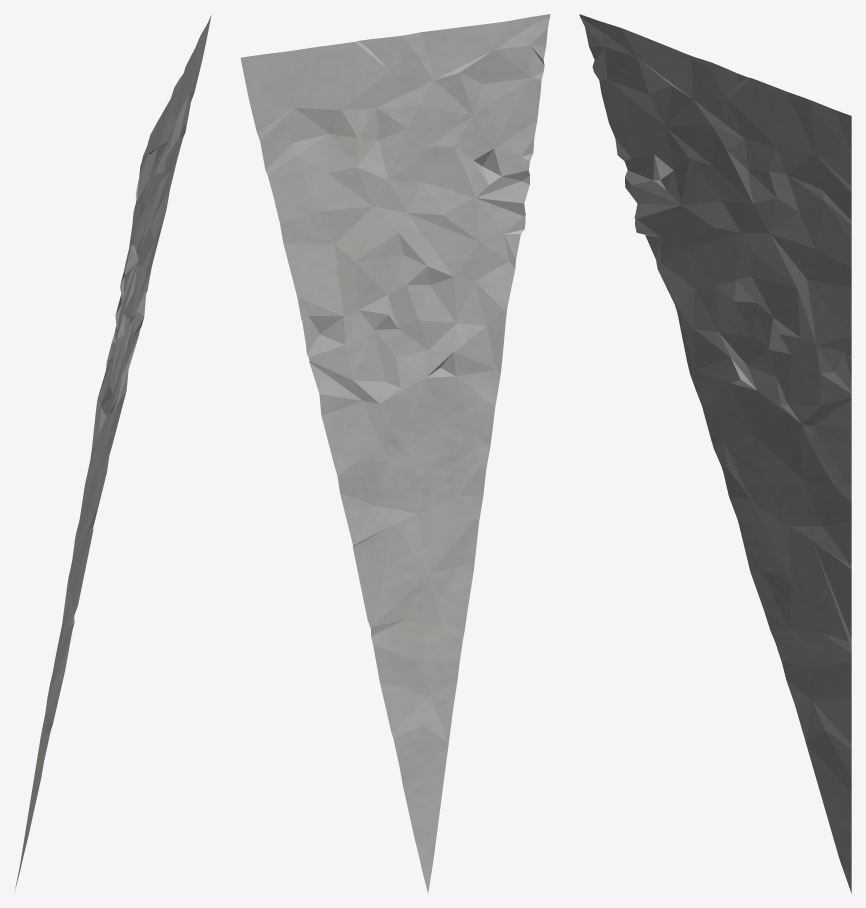
The picture shows the model from 3 angles, left to right: view 1: azimuth 30°, elevation 25°; view 2: azimuth 150°, elevation 25°; view 3: azimuth 270°, elevation 25°; orthographic projection. The views are drawn at different scales.
Size of the model in its own units: 0.3821 by 1.54 by 0.4312.
1 material, 1 textured.
